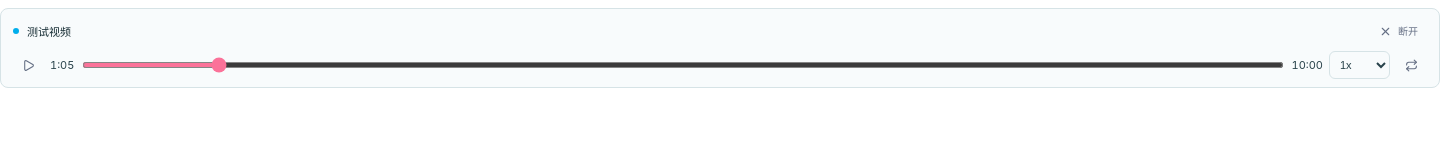
Test: unparsable input keeps the old position and does not seek
Click the button named "修改播放时间".
click(62, 65)  # box [50,58,74,72]
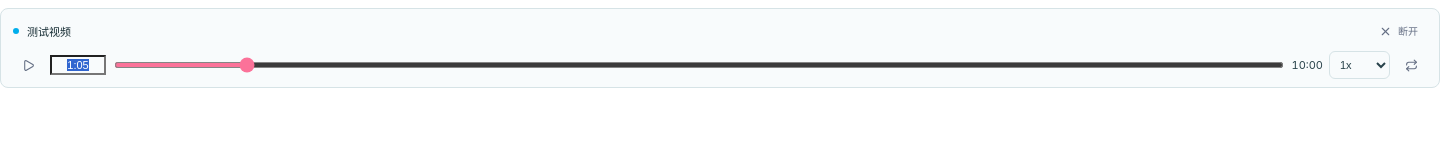
Replace the text in the field named "跳转到时间" with "abc" at [78, 65], box [50,55,106,75]
Then press Enter
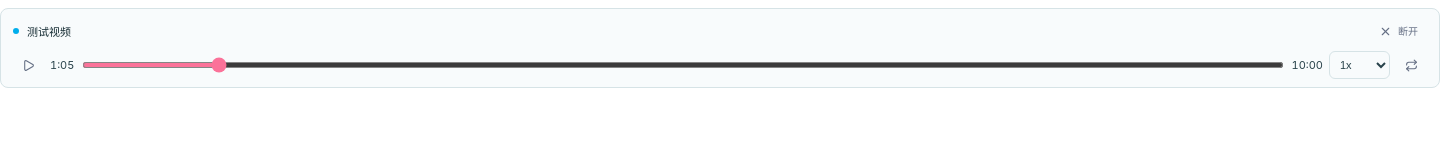
Check: the button named "修改播放时间" reads "1:05", box [50,58,74,72]
